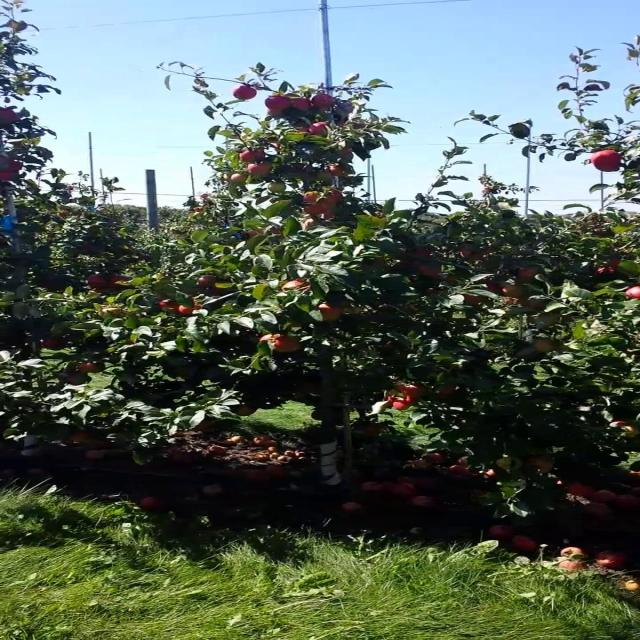apple: (525, 460, 555, 475), (276, 336, 304, 352), (319, 304, 341, 321), (568, 484, 596, 497), (596, 160, 624, 172), (177, 304, 203, 316), (404, 384, 427, 397), (248, 164, 272, 176), (596, 152, 622, 163), (248, 148, 268, 162), (269, 96, 292, 108), (532, 340, 555, 352), (284, 280, 311, 290), (234, 88, 256, 100), (312, 96, 334, 108), (504, 284, 526, 296), (234, 404, 256, 416), (518, 268, 540, 280), (70, 432, 92, 444), (362, 424, 384, 436), (42, 340, 64, 351), (305, 204, 325, 216), (618, 424, 638, 436), (525, 300, 548, 310), (326, 164, 345, 176), (113, 276, 132, 288), (319, 196, 341, 206), (404, 392, 423, 403), (77, 364, 100, 373), (326, 192, 343, 204), (198, 276, 215, 288), (241, 152, 261, 162), (291, 100, 313, 109), (92, 276, 108, 288), (461, 252, 484, 260), (305, 192, 320, 204), (312, 124, 327, 136), (319, 172, 334, 184), (419, 268, 441, 276), (596, 268, 617, 276), (625, 424, 639, 436), (6, 112, 21, 123), (397, 400, 412, 411), (625, 288, 638, 300), (397, 400, 411, 411), (163, 300, 178, 310), (397, 384, 411, 394), (269, 184, 286, 192), (468, 296, 485, 304), (70, 376, 85, 385), (497, 460, 512, 469), (440, 392, 453, 402), (234, 176, 249, 184), (6, 164, 21, 172), (269, 228, 284, 236), (440, 388, 455, 395), (92, 288, 107, 295), (419, 248, 432, 256), (305, 220, 315, 230), (611, 260, 624, 267), (262, 336, 277, 342), (490, 284, 501, 292), (390, 396, 404, 401), (6, 172, 14, 180), (504, 300, 519, 304), (248, 232, 258, 236), (321, 108, 325, 111)
